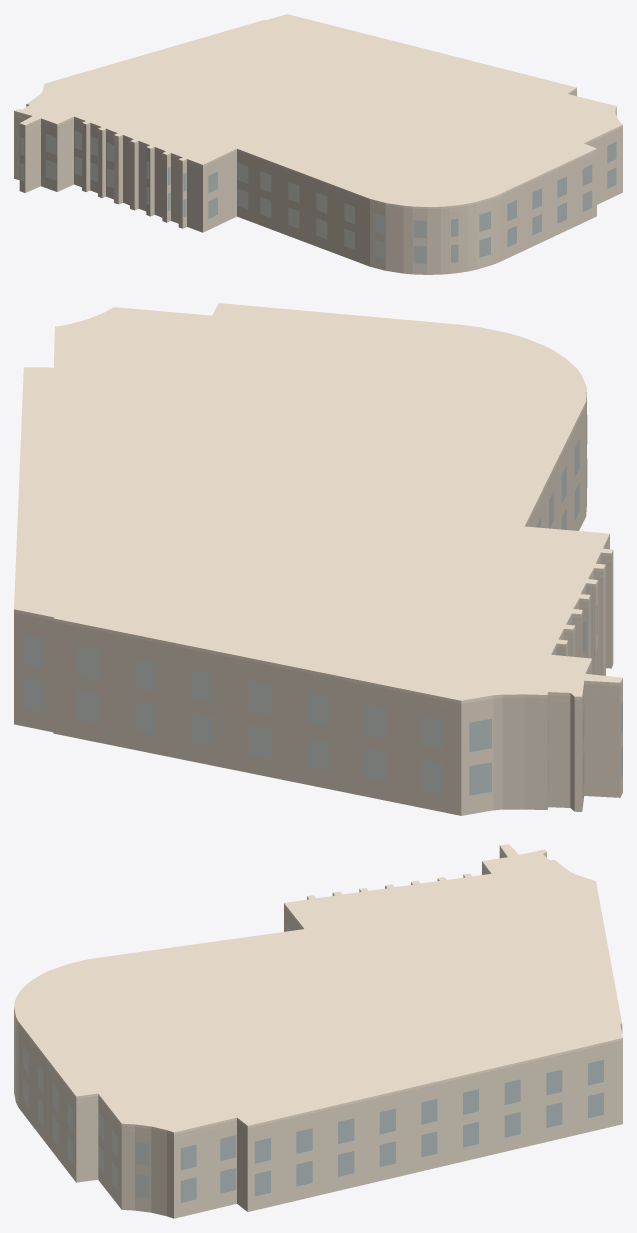
The model's file is detail.glb.
3 renders of one model, top to bottom at view 1: azimuth 30°, elevation 25°; view 2: azimuth 150°, elevation 25°; view 3: azimuth 270°, elevation 25°, orthographic. The views are drawn at different scales.
Parts seen in each view (by area): view 1: trim, stone, window; view 2: trim, stone, window; view 3: trim, stone, window.
Boxes of the visible parts, x1=… form: trim: x1=14, y1=14, x2=622, y2=211; stone: x1=14, y1=89, x2=622, y2=274; window: x1=19, y1=126, x2=616, y2=263; trim: x1=14, y1=303, x2=622, y2=708; stone: x1=14, y1=395, x2=622, y2=815; window: x1=23, y1=415, x2=622, y2=795; trim: x1=14, y1=844, x2=622, y2=1138; stone: x1=14, y1=848, x2=622, y2=1218; window: x1=14, y1=924, x2=603, y2=1202.
Size of the model in its own units: 100 by 14 by 89.62.
